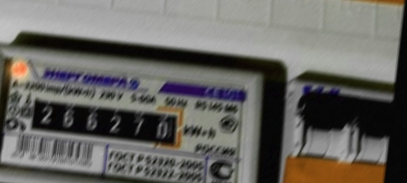0: (154, 117, 167, 139)
2: (38, 102, 54, 125), (107, 112, 122, 133)
6: (61, 107, 75, 128), (85, 109, 99, 130)
7: (130, 115, 144, 135)
screen: (16, 83, 194, 158)
